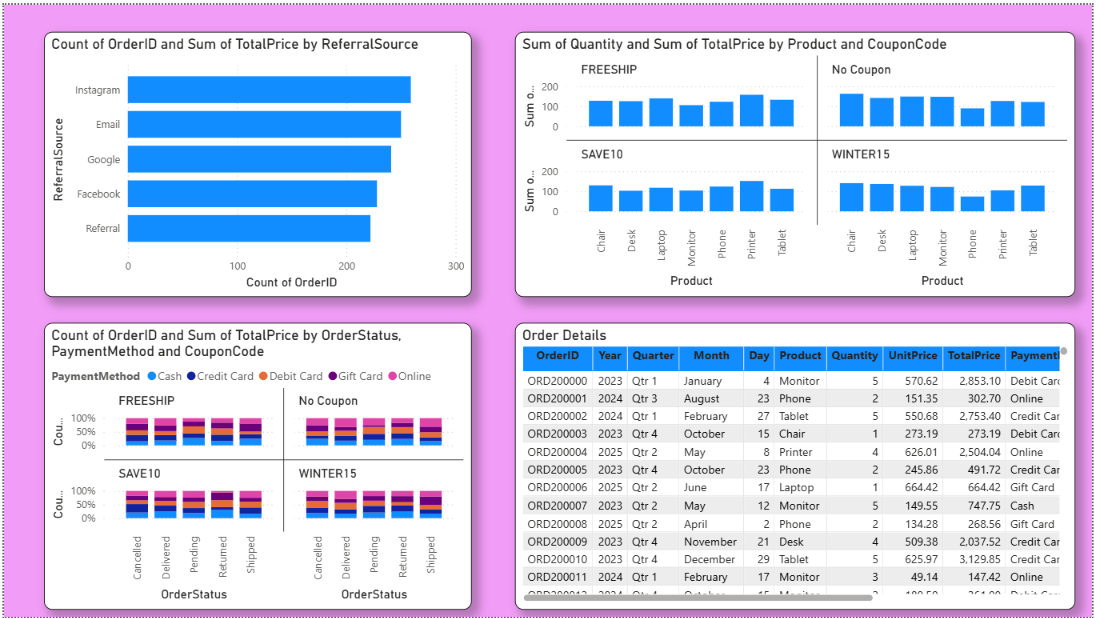

The page's visual inventory and layout, read from the dashboard file:
{"tool":"powerbi","page":{"name":"Page 2","canvas":[1280,720],"ordinal":1},"visuals":[{"type":"hundredPercentStackedColumnChart","fields":{"Category":["Cleaned_Dataset.OrderStatus"],"Y":["CountNonNull(Cleaned_Dataset.OrderID)"],"Series":["Cleaned_Dataset.PaymentMethod"],"Rows":["Cleaned_Dataset.CouponCode"]},"box":[46.5,374.4,503.5,337.2],"z":0},{"type":"clusteredColumnChart","fields":{"Category":["Cleaned_Dataset.Product"],"Y":["Sum(Cleaned_Dataset.Quantity)"],"Rows":["Cleaned_Dataset.CouponCode"]},"box":[601.2,31.4,659.3,311.6],"z":1000},{"type":"barChart","fields":{"Y":["CountNonNull(Cleaned_Dataset.OrderID)"],"Category":["Cleaned_Dataset.ReferralSource"]},"box":[46.5,31.4,503.5,311.6],"z":2000},{"type":"tableEx","title":"Order Details","fields":{"Values":["Cleaned_Dataset.OrderID","Cleaned_Dataset.Date.Variation.Date Hierarchy.Year","Cleaned_Dataset.Date.Variation.Date Hierarchy.Quarter","Cleaned_Dataset.Date.Variation.Date Hierarchy.Month","Cleaned_Dataset.Date.Variation.Date Hierarchy.Day","Cleaned_Dataset.Product","Cleaned_Dataset.Quantity","Cleaned_Dataset.UnitPrice","Cleaned_Dataset.TotalPrice","Cleaned_Dataset.PaymentMethod","Cleaned_Dataset.CouponCode","Cleaned_Dataset.OrderStatus"]},"box":[601.2,374.4,659.3,337.2],"z":3000}]}

Visuals, with their boxes in screenshot pixels (x1, y1, x2, y2), scaled from the page's 1280x720 canvas onto the 1096x618 screenshot:
hundredPercentStackedColumnChart - Cleaned_Dataset.OrderStatus x CountNonNull(Cleaned_Dataset.OrderID): x1=40, y1=321, x2=471, y2=611
clusteredColumnChart - Cleaned_Dataset.Product x Sum(Cleaned_Dataset.Quantity): x1=515, y1=27, x2=1079, y2=294
barChart - CountNonNull(Cleaned_Dataset.OrderID) x Cleaned_Dataset.ReferralSource: x1=40, y1=27, x2=471, y2=294
"Order Details" tableEx: x1=515, y1=321, x2=1079, y2=611
